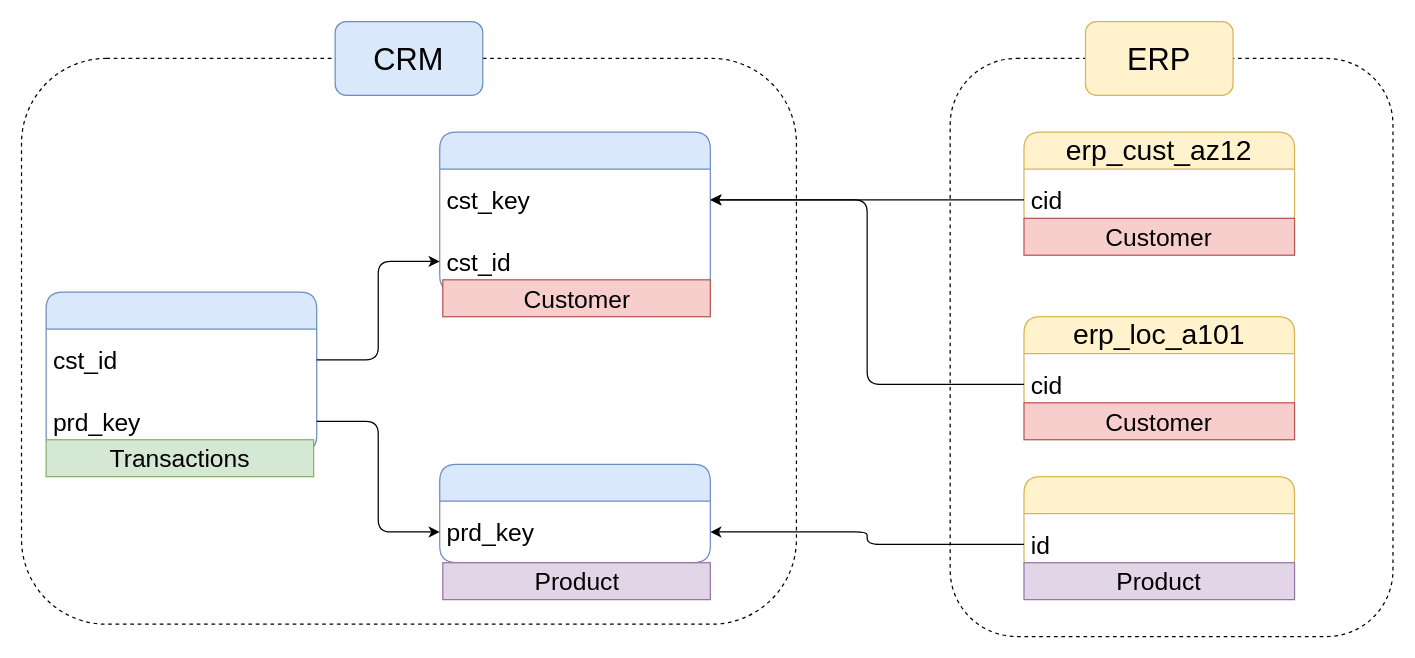
Image size: 1415x658. Some labels were removed from this diagram. Here are the shapes that lost their labels. From the top down, the box of each, then its label:
(438, 131, 710, 292): crm_cust_info
(45, 291, 317, 452): crm_sales_details
(438, 463, 710, 563): crm_prd_info
(1023, 475, 1295, 575): erp_cat_g1v2
